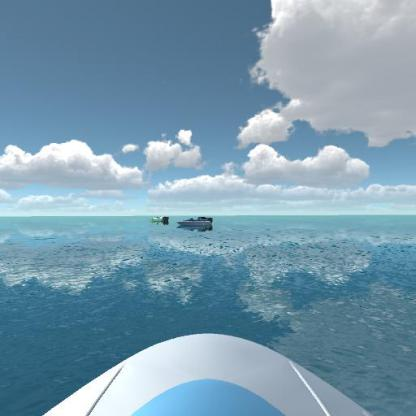usv0: (149, 212, 171, 226)
usv1: (175, 213, 216, 234)
